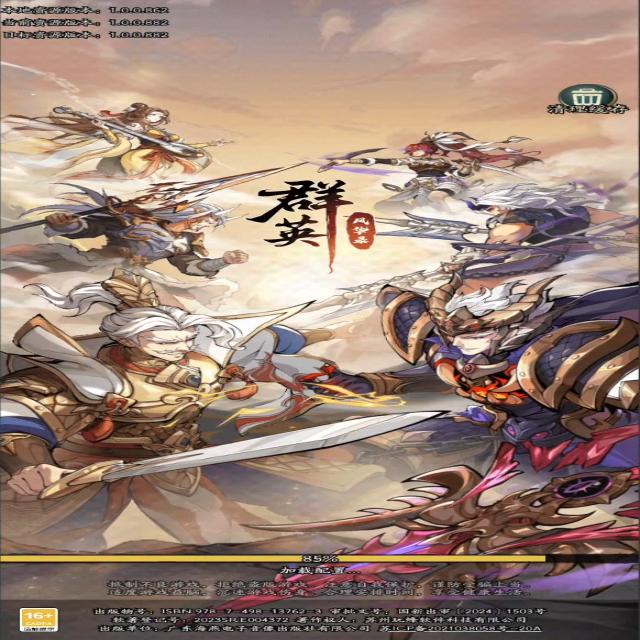system-cleanUpCache: (552, 84, 632, 116)
